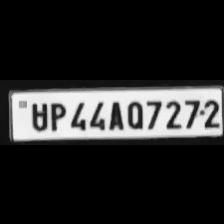2: (162, 96, 182, 130), (200, 96, 220, 128)
4: (67, 97, 87, 129), (86, 97, 106, 128)
7: (180, 96, 200, 128), (143, 96, 161, 128)
A: (104, 97, 124, 128)
P: (47, 98, 66, 130)
Q: (124, 97, 144, 128)
U: (28, 98, 48, 130)
